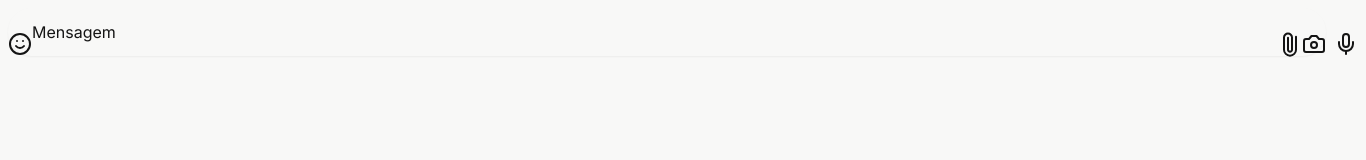
prévia antes do envio › parar gravação não envia; só o toque posterior despacha
Later steps or results of the test are not shown.
What coordinates should you click on to do the following:
click the button named "Gravar áudio"
I would click on:
 (1346, 44)
Its box is left=1334, top=32, right=1358, bottom=56.
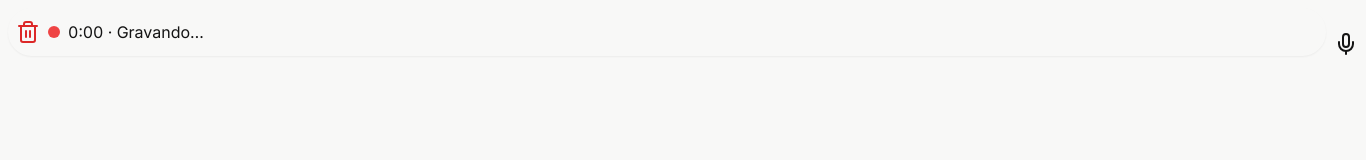
What coordinates should you click on to do the following:
click the button named "Parar e ouvir áudio"
I would click on:
 (1346, 44)
Its box is left=1334, top=32, right=1358, bottom=56.
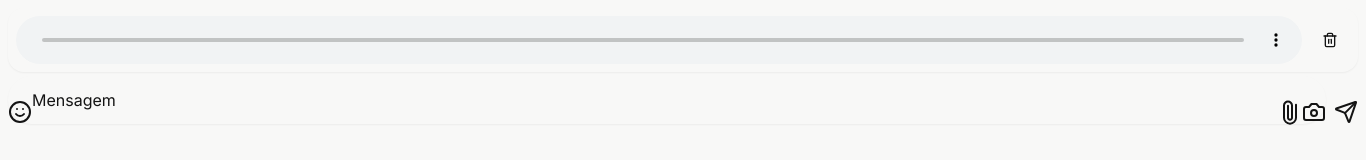
Expected: the element named "Prévia do áudio" is shown, left=16, top=16, right=1302, bottom=64
